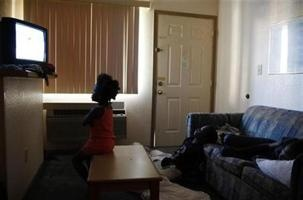person without safety: (89, 70, 123, 155)
